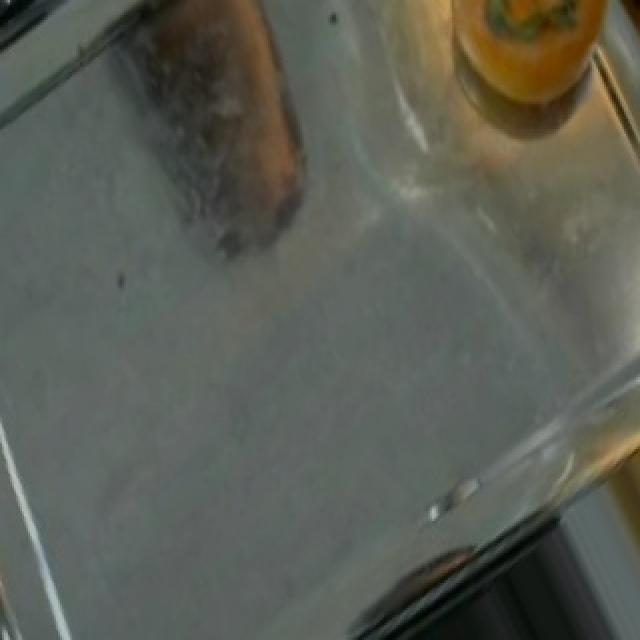Fruit: (446, 2, 640, 136), (594, 404, 640, 625)
